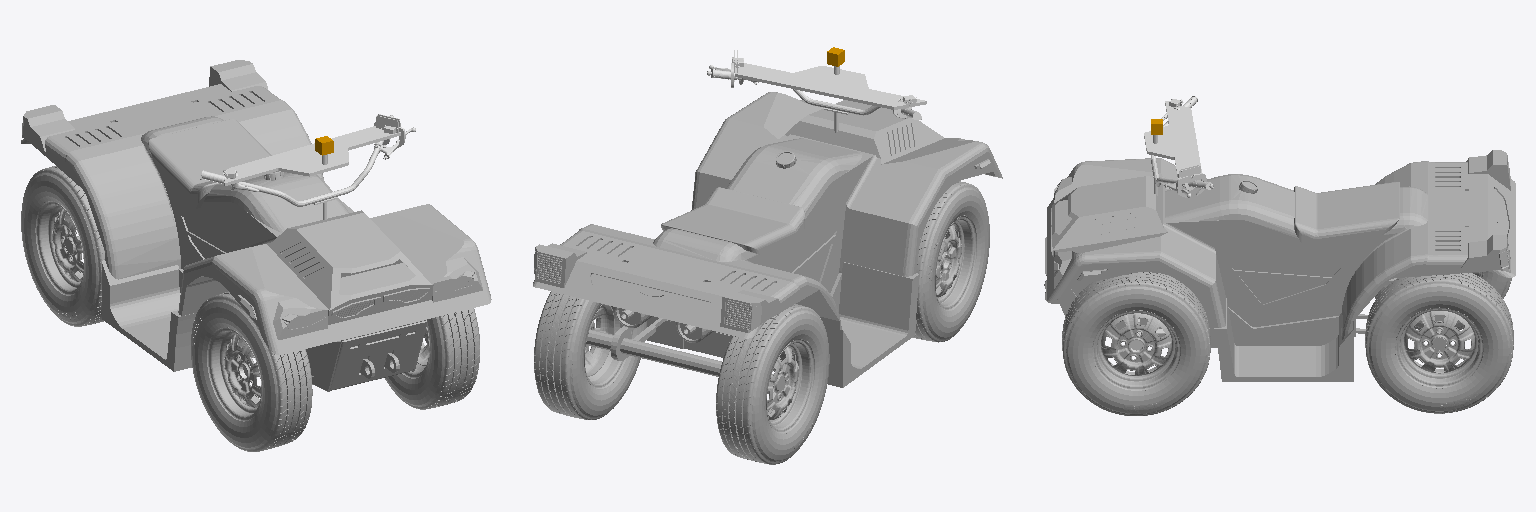
robot.urdf — quad:
<?xml version="1.0" encoding="utf-8"?>
<!-- This URDF was automatically created by SolidWorks to URDF Exporter! Originally created by [author] ([email redacted]) 
     Commit Version: 1.6.0-1-g15f4949  Build Version: 1.6.7594.29634
     For more information, please see http://wiki.ros.org/sw_urdf_exporter -->

<robot name="quad">
  <link name="dummy">   
  </link>
  <joint name="dummy_joint" type="fixed">
     <parent link="dummy"/>
     <child link="quad"/>
  </joint>
 
 <link name="quad">
    <inertial>
      <origin
        xyz="-0.00169077501325609 -0.0532241180036688 0.332452114478226"
        rpy="0 0 0" />
      <mass
        value="394.345706961892" />
      <inertia
        ixx="77.7977879380568"
        ixy="-0.000902048893138492"
        ixz="0.000135506707833061"
        iyy="21.4865124263717"
        iyz="-2.1459494527081"
        izz="80.3010324861321" />
    </inertial>
    <visual>
      <origin
        xyz="0 0 0"
        rpy="0 0 0" />
      <geometry>
        <mesh
          filename="package://quad/meshes/quad.STL" />
      </geometry>
      <material
        name="">
        <color
          rgba="0.752941176470588 0.752941176470588 0.752941176470588 1" />
      </material>
    </visual>
    <collision>
      <origin
        xyz="0 0 0"
        rpy="0 0 0" />
      <geometry>
        <mesh
          filename="package://quad/meshes/quad.STL" />
      </geometry>
    </collision>
  </link>
  
  <link
    name="guide">
    <inertial>
      <origin
        xyz="-0.00070198 0.050465 -0.033725"
        rpy="0 0 0" />

      <mass
        value="4.0577" />
      <inertia
        ixx="0.019717"
        ixy="-0.0091948"
        ixz="-0.00013978"
        iyy="0.14293"
        iyz="-0.0035166"
        izz="0.14532" />
    </inertial>
    <visual>
      <origin
        xyz="0 0 0"
        rpy="0 0 0" />
      <geometry>
        <mesh
          filename="package://quad/meshes/guide.STL" />
      </geometry>
      <material
        name="">
        <color
          rgba="0.89804 0.89804 0.89804 1" />
      </material>
    </visual>
    <collision>
      <origin
        xyz="0 0 0"
        rpy="0 0 0" />
      <geometry>
        <mesh
          filename="package://quad/meshes/guide.STL" />
      </geometry>
    </collision>
   </link>
  <joint
    name="guide"
    type="revolute">
    <origin
      xyz="0.00051143 -0.43739 0.69906"
      rpy="0 0 0" />
    <parent
      link="quad" />
    <child
      link="guide" />
    <axis
      xyz="-0.0028741 0 1" />
<!-- it's a maximum effort  and velocity that that joint can apply et le degrée  this is how fast the joint will be able to go and how much effort will it allow the actuator to apply -->
    <limit
      lower="-0.523598776"
      upper="0.523598776"
      effort="20.0"
      velocity="0" />
  </joint>
  <link
    name="fl">
  <inertial>
    <origin
     xyz="-0.037789 -0.00074873 -7.825E-06" rpy="0 0 0" />
    <mass
        value="39.866" />
    <inertia
        ixx="2.3211"
        ixy="0.021002"
        ixz="3.0895E-05"
        iyy="1.2571"
        iyz="9.9825E-06"
        izz="1.2566" />
    </inertial>
    <visual>
      <origin
        xyz="0 0 0"
        rpy="0 0 0" />
      <geometry>
        <mesh
          filename="package://quad/meshes/fl.STL" />
      </geometry>
      <material
        name="">
        <color
          rgba="0.75294 0.75294 0.75294 1" />
      </material>
    </visual>
    <collision>
      <origin
        xyz="0 0 0"
        rpy="0 0 0" />
      <geometry>
        <mesh
          filename="package://quad/meshes/fl.STL" />
      </geometry>
    </collision>
  </link>
  <joint
    name="fl"
    type="continuous">
    <origin
      xyz="0.41026 -0.078315 -0.57816"
      rpy="0 0 0" />
    <parent
      link="guide" />
    <child
      link="fl" />
    <axis
      xyz="-0.99981 -0.019731 0" />
    <limit
      lower="0"
      upper="0"
      effort="30.0"
      velocity="20.0" />
  </joint>
  <link
    name="fr">
    <inertial>
      <origin
        xyz="0.037685 0.0028976 6.4039E-06"
        rpy="0 0 0" />
      <mass
        value="39.866" />
      <inertia
        ixx="2.3153"
        ixy="0.081279"
        ixz="1.2928E-05"
        iyy="1.2629"
        iyz="-2.9643E-05"
        izz="1.2567" />
    </inertial>
    <visual>
      <origin
        xyz="0 0 0"
        rpy="0 0 0" />
      <geometry>
        <mesh
          filename="package://quad/meshes/fr.STL" />
      </geometry>
      <material
        name="">
        <color
          rgba="0.75294 0.75294 0.75294 1" />
      </material>
    </visual>
    <collision>
      <origin
        xyz="0 0 0"
        rpy="0 0 0" />
      <geometry>
        <mesh
          filename="package://quad/meshes/fr.STL" />
      </geometry>
    </collision>
  </link>
  <joint
    name="fr"
    type="continuous">
    <origin
      xyz="-0.41416 -0.10518 -0.56942"
      rpy="0 0 0" />
    <parent
      link="guide" />
    <child
      link="fr" />
    <axis
      xyz="0.99707 0.076524 0" />
    <limit
      lower="0"
      upper="0"
      effort="30.0"
      velocity="20.0" />
  </joint>
  <link
    name="br">
    <inertial>
      <origin
        xyz="0.037796 1.3061E-06 -8.2896E-06"
        rpy="0 0 0" />
      <mass
        value="39.866" />
      <inertia
        ixx="2.3215"
        ixy="-9.9793E-06"
        ixz="-3.017E-05"
        iyy="1.2567"
        iyz="-2.5146E-05"
        izz="1.2566" />
    </inertial>
    <visual>
      <origin
        xyz="0 0 0"
        rpy="0 0 0" />
      <geometry>
        <mesh
          filename="package://quad/meshes/br.STL" />
      </geometry>
      <material
        name="">
        <color
          rgba="0.75294 0.75294 0.75294 1" />
      </material>
    </visual>
    <collision>
      <origin
        xyz="0 0 0"
        rpy="0 0 0" />
      <geometry>
        <mesh
          filename="package://quad/meshes/br.STL" />
      </geometry>
    </collision>
  </link>
  <joint
    name="br"
    type="continuous">
    <origin
      xyz="-0.43333 0.72223 0.14067"
      rpy="0 0 0" />
    <parent
      link="quad" />
    <child
      link="br" />
    <axis
      xyz="1 0 0" />
    <limit
      lower="0"
      upper="0"
      effort="30.0"
      velocity="20.0" />
  </joint>
  <link
    name="bl">
    <inertial>
      <origin
        xyz="-0.027796 -1.3061E-06 -8.2896E-06"
        rpy="0 0 0" />
      <mass
        value="39.866" />
      <inertia
        ixx="2.3215"
        ixy="-9.9793E-06"
        ixz="3.017E-05"
        iyy="1.2567"
        iyz="2.5146E-05"
        izz="1.2566" />
    </inertial>
    <visual>
      <origin
        xyz="0 0 0"
        rpy="0 0 0" />
      <geometry>
        <mesh
          filename="package://quad/meshes/bl.STL" />
      </geometry>
      <material
        name="">
        <color
          rgba="0.75294 0.75294 0.75294 1" />
      </material>
    </visual>
    <collision>
      <origin
        xyz="0 0 0"
        rpy="0 0 0" />
      <geometry>
        <mesh
          filename="package://quad/meshes/bl.STL" />
      </geometry>
    </collision>
  </link>
  <joint
    name="bl"
    type="continuous">
    <origin
      xyz="0.41667 0.72223 0.14067"
      rpy="0 0 0" />
    <parent
      link="quad" />
    <child
      link="bl" />
    <axis
      xyz="-1 0 0" />
    <limit
      lower="0"
      upper="0"
      effort="30.0"
      velocity="20.0" />
  </joint>
  <link
    name="box">
    <inertial>
      <origin
        xyz="0 0 0"
        rpy="0 0 0" />
      <mass
        value="0" />
      <inertia
        ixx="0"
        ixy="0"
        ixz="0"
        iyy="0"
        iyz="0"
        izz="0" />
    </inertial>
    <visual>
      <origin
        xyz="0 0 0"
        rpy="0 0 0" />
      <geometry>
        <mesh
          filename="package://quad/meshes/box.STL" />
      </geometry>
      <material
        name="">
        <color
          rgba="1 1 1 1" />
      </material>
    </visual>
    <collision>
      <origin
        xyz="0 0 0"
        rpy="0 0 0" />
      <geometry>
        <mesh
          filename="package://quad/meshes/box.STL" />
      </geometry>
    </collision>
  </link>
  <joint
    name="box"
    type="fixed">
    <origin
      xyz="-0.12169 -0.11337 0.75231"
      rpy="-0.36952 0 0" />
    <parent
      link="quad" />
    <child
      link="box" />
    <axis
      xyz="0 0 0" />
  </joint>

<!-- Camera  joint -->
  
  <joint name="camera_joint" type="fixed">
    <axis xyz="0 1 0" />
    <origin xyz="0 -0.432 0.919" rpy="0 0 -1.57"/>
    <parent link="quad"/>
    <child link="camera"/>
  </joint>

<link name="camera">
    <collision>
      <origin xyz="0 0 0" rpy="0 0 0"/>
      <geometry>
    <box size="0.05 0.05 0.05"/>
      </geometry>
    </collision>

    <visual>
      <origin xyz="0 0 0" rpy="0 0 0"/>
      <geometry>
    <box size="0.05 0.05 0.05"/>
      </geometry>
      <material name="green"/>
    </visual>

    <inertial>
      <mass value="0.1" />
      <origin xyz="0 0 0" rpy="0 0 0"/>
      <inertia ixx="1e-6" ixy="0" ixz="0" iyy="1e-6" iyz="0" izz="1e-6" />
    </inertial>
  </link>
  <!-- Hokuyo Laser joint -->
  <joint name="hokuyo_joint" type="fixed">
    <axis xyz="0 1 0" />
    <origin xyz="0 -0.432 0.98" rpy="0 0 0"/>
    <parent link="quad"/>
    <child link="hokuyo_link"/>
  </joint>
  <!-- Hokuyo Laser -->
  <link name="hokuyo_link">
    <collision>
      <origin xyz="0 0 0" rpy="0 0 0"/>
      <geometry>
    <box size="0.1 0.1 0.1"/>
      </geometry>
    </collision>

    <visual>
      <origin xyz="0 0 0" rpy="0 0 0"/>
      <geometry>
        <mesh filename="package://quad/meshes/hokuyo.dae"/>
      </geometry>
    </visual>

    <inertial>
      <mass value="1e-5" />
      <origin xyz="0 0 0" rpy="0 0 0"/>
      <inertia ixx="1e-6" ixy="0" ixz="0" iyy="1e-6" iyz="0" izz="1e-6" />
    </inertial>
  </link>



<!-- plugins -->
<!--  roues plugins -->
<!-- add atransmission tag linked to the joint you want to move  -->
<!-- this activates the gazebo control plugin for the quad namespace .this namespace will be set in the main spawm launch file ,Pour lier Gazebo et ROS, nous spécifions le plugin dans l'URDF -->
<gazebo>
  <plugin name="gazebo_ros_control" filename="libgazebo_ros_control.so">
    <robotNamespace>/quad</robotNamespace>
    <legacyModeNS>true</legacyModeNS>
  </plugin>
</gazebo>


<!-- define the name of the transmission which will haveto be unique throught the urdf file  -->
<transmission name ="tranguide">
<!-- the type of transmission ,which for the moment only one is implemented " transmission_interface/SimpleTransmission"-->
 <type> transmission_interface/SimpleTransmission</type>
<!-- here you link the joint to the transmission and select the hardware interface ,which also has only effort interface that works-->
<joint name="guide">
<hardwareInterface>hardware_interface/EffortJointInterface</hardwareInterface>
</joint>
<!-- here you set a unique name for the actuator and again select the hardware interface  -->
<actuator name="motor1">
<hardwareInterface>EffortJointInterface</hardwareInterface>
<mechanicalReduction>1</mechanicalReduction>
</actuator>
</transmission>

<!-- add others transmisions of wheels-->
<!-- wheel1-->
<transmission name ="tranbl">
<type> transmission_interface/SimpleTransmission</type>
<joint name="bl">
<hardwareInterface>hardware_interface/EffortJointInterface</hardwareInterface>
</joint>
<actuator name="motor2">
<hardwareInterface>EffortJointInterface</hardwareInterface>
<mechanicalReduction>1</mechanicalReduction>
</actuator>
</transmission>
<!-- wheel2-->
<transmission name ="tranbr">
<type> transmission_interface/SimpleTransmission</type>
<joint name="br">
<hardwareInterface>hardware_interface/EffortJointInterface</hardwareInterface>
</joint>
<actuator name="motor3">
<hardwareInterface>EffortJointInterface</hardwareInterface>
<mechanicalReduction>1</mechanicalReduction>
</actuator>
</transmission>
<!-- wheel3-->

<transmission name ="tranfl">
<type> transmission_interface/SimpleTransmission</type>
<joint name="fl">
<hardwareInterface>hardware_interface/EffortJointInterface</hardwareInterface>
</joint>
<actuator name="motor4">
<hardwareInterface>EffortJointInterface</hardwareInterface>
<mechanicalReduction>1</mechanicalReduction>
</actuator>
</transmission>

<!-- wheel4-->
<transmission name ="tranfr">
<type> transmission_interface/SimpleTransmission</type>
<joint name="fr">
<hardwareInterface>hardware_interface/EffortJointInterface</hardwareInterface>
</joint>
<actuator name="motor5">
<hardwareInterface>EffortJointInterface</hardwareInterface>
<mechanicalReduction>1</mechanicalReduction>
</actuator>
</transmission>








<gazebo>
  <plugin name="skid_steer_drive_controller" filename="libgazebo_ros_skid_steer_drive.so">

 <legacyMode>true</legacyMode>
      <alwaysOn>true</alwaysOn>
    <updateRate>100.0</updateRate>
    <robotNamespace>/</robotNamespace>
    <leftFrontJoint>fl</leftFrontJoint>
    <rightFrontJoint>fr</rightFrontJoint>
    <leftRearJoint>bl</leftRearJoint>
    <rightRearJoint>br</rightRearJoint>
    <wheelSeparation>1</wheelSeparation>
    <wheelDiameter>0.5</wheelDiameter>
    <robotBaseFrame>quad</robotBaseFrame>
    <torque>30</torque>
    <topicName>cmd_vel</topicName>
    <broadcastTF>true</broadcastTF>
<!--  🤔️-->
    <odometryTopic>odom</odometryTopic>
    <odometryFrame>odom</odometryFrame>
    <publishTf>true</publishTf>
    <wheelAcceleration>10</wheelAcceleration>
    <odometrySource>world</odometrySource>
    <publishOdomTF>true</publishOdomTF>
    <covariance_yaw>0.010000</covariance_yaw>
    <covariance_y>0.000100</covariance_y>
    <covariance_x>0.000100</covariance_x>
    <commandTopic>cmd_vel</commandTopic>
  <!--  🤔️-->    
 </plugin>
</gazebo>
<gazebo>
<plugin name="omnni_steering" filename="libgazebo_ros_planar_move.so">
    <commandTopic>cmd_vel</commandTopic>
    <odometryTopic>odom</odometryTopic>
    <odometryFrame>odom</odometryFrame>
    <odometryRate>100.0</odometryRate>
    <robotBaseFrame>quad</robotBaseFrame>
    <publishTF>true</publishTF>
    </plugin>
</gazebo>


<!-- hokuyo -->
  <gazebo reference="hokuyo_link">
    <sensor type="ray" name="head_hokuyo_sensor">
      <pose>0 0 0 0 0 0</pose>
      <visualize>false</visualize>
      <update_rate>40</update_rate>
      <ray>
        <scan>
          <horizontal>
            <samples>720</samples>
            <resolution>1</resolution>
            <min_angle>-2.87979</min_angle>
            <max_angle>2.87979</max_angle>
          </horizontal>
        </scan>
        <range>
          <min>0.10</min>
          <max>30.0</max>
          <resolution>0.01</resolution>
        </range>
        <noise>
          <type>gaussian</type>
          <!-- Noise parameters based on published spec for Hokuyo laser
               achieving "+-30mm" accuracy at range < 10m.  A mean of 0.0m and
               stddev of 0.01m will put 99.7% of samples within 0.03m of the true
               reading. -->
          <mean>0.0</mean>
          <stddev>0.01</stddev>
        </noise>
      </ray>
      <plugin name="gazebo_ros_head_hokuyo_controller" filename="libgazebo_ros_laser.so">
        <topicName>/scan</topicName>
        <frameName>hokuyo_link</frameName>
      </plugin>
    </sensor>
  </gazebo>


 <!-- camera -->
  <!-- Le nom du lien "camera_link" doit correspondre au nom du lien que nous avons ajouté à l'URDF Xacro.
-->

  <gazebo reference="camera">
  	 <!-- Le nom du capteur « camera1 » doit être unique par rapport à tous les autres noms de capteur. Le nom n'est pas utilisé à beaucoup d'endroits, sauf dans les plugins Gazebo auxquels vous pouvez accéder
-->
    <sensor type="camera" name="camera1">
   <!-- Nombre de fois par seconde qu'une nouvelle image de caméra est prise dans Gazebo. Il s'agit du taux de mise à jour maximal que le capteur tentera pendant la simulation, mais il pourrait être inférieur à ce taux cible si la simulation physique s'exécute plus rapidement que la génération du capteur ne peut suivre.-->
      
      <update_rate>30.0</update_rate>
      <camera name="head">
      	<!--ces valeurs pour correspondre aux spécifications du fabricant sur votre matériel de caméra physique. Une chose à noter est que les pixels sont supposés être carrés.-->
        <horizontal_fov>1.3962634</horizontal_fov>
        <image>
          <width>800</width>
          <height>800</height>
          <format>R8G8B8</format>
        </image>
        <clip>
          <near>0.02</near>
          <far>300</far>
        </clip>
        <noise>
          <type>gaussian</type>
          <!-- Noise is sampled independently per pixel on each frame.
               That pixel's noise value is added to each of its color
               channels, which at that point lie in the range [0,1]. -->
          <mean>0.0</mean>
          <stddev>0.007</stddev>
        </noise>
      </camera>
      <plugin name="camera_controller" filename="libgazebo_ros_camera.so">
        <alwaysOn>true</alwaysOn>
        <updateRate>0.0</updateRate>
        <cameraName>spcbot/camera1</cameraName>
        <imageTopicName>image_raw</imageTopicName>
        <cameraInfoTopicName>camera_info</cameraInfoTopicName>
        <frameName>camera</frameName>
        <hackBaseline>0.07</hackBaseline>
        <distortionK1>0.0</distortionK1>
        <distortionK2>0.0</distortionK2>
        <distortionK3>0.0</distortionK3>
        <distortionT1>0.0</distortionT1>
        <distortionT2>0.0</distortionT2>
      </plugin>
    </sensor>
  </gazebo>
<gazebo reference="quad">
      <material>
        Gazebo/Grey
      </material>
  </gazebo> 
<gazebo reference="fr">
 
      <material>
        Gazebo/Black
      </material>
  </gazebo> 
<gazebo reference="fl">

      <material>
        Gazebo/Black
      </material>
  </gazebo> 
<gazebo reference="br">
   
      <material>
        Gazebo/Black
      </material>
  </gazebo> 
<gazebo reference="bl">

      <material>
        Gazebo/Black
      </material>
  </gazebo> 
<gazebo reference="camera">
      <material>
        Gazebo/Red
      </material>
  </gazebo> 
<gazebo reference="box">
      <material>
        Gazebo/Black
      </material>
  </gazebo> 
<gazebo reference="guide">
      
      <material>
        Gazebo/Grey
      </material>
  </gazebo> 
</robot>

--- Render facts (derived) ---
3 views of the same robot in one strip: view 1: azimuth 30°, elevation 25°; view 2: azimuth 150°, elevation 25°; view 3: azimuth 270°, elevation 25° (orthographic).
Model quad with 10 links and 9 joints (1 revolute, 4 continuous, 4 fixed), rooted at dummy, posed all joints at 0.
Visible links, largest first — view 1: quad, fr, br, fl, guide; view 2: quad, br, bl, fr, guide; view 3: quad, fl, bl, guide, br.
Link boxes in pixels (bbox=[...]): quad: bbox=[21, 60, 491, 391]; fr: bbox=[191, 291, 312, 451]; br: bbox=[21, 166, 104, 326]; fl: bbox=[385, 308, 479, 409]; guide: bbox=[200, 114, 427, 379]; quad: bbox=[533, 92, 1002, 391]; br: bbox=[716, 304, 829, 464]; bl: bbox=[534, 291, 646, 419]; fr: bbox=[912, 181, 989, 342]; guide: bbox=[707, 50, 949, 268]; quad: bbox=[1044, 150, 1515, 381]; fl: bbox=[1062, 272, 1210, 415]; bl: bbox=[1365, 273, 1513, 413]; guide: bbox=[1129, 96, 1213, 352]; br: bbox=[1375, 271, 1511, 329].
Bounding box of the posed robot: 0.9892 × 1.92 × 1.13 m (x, y, z).
6 mesh visuals loaded from 8 distinct referenced files (6 binary STL); not drawn: 2 (reference not matched to a file when rendering).
